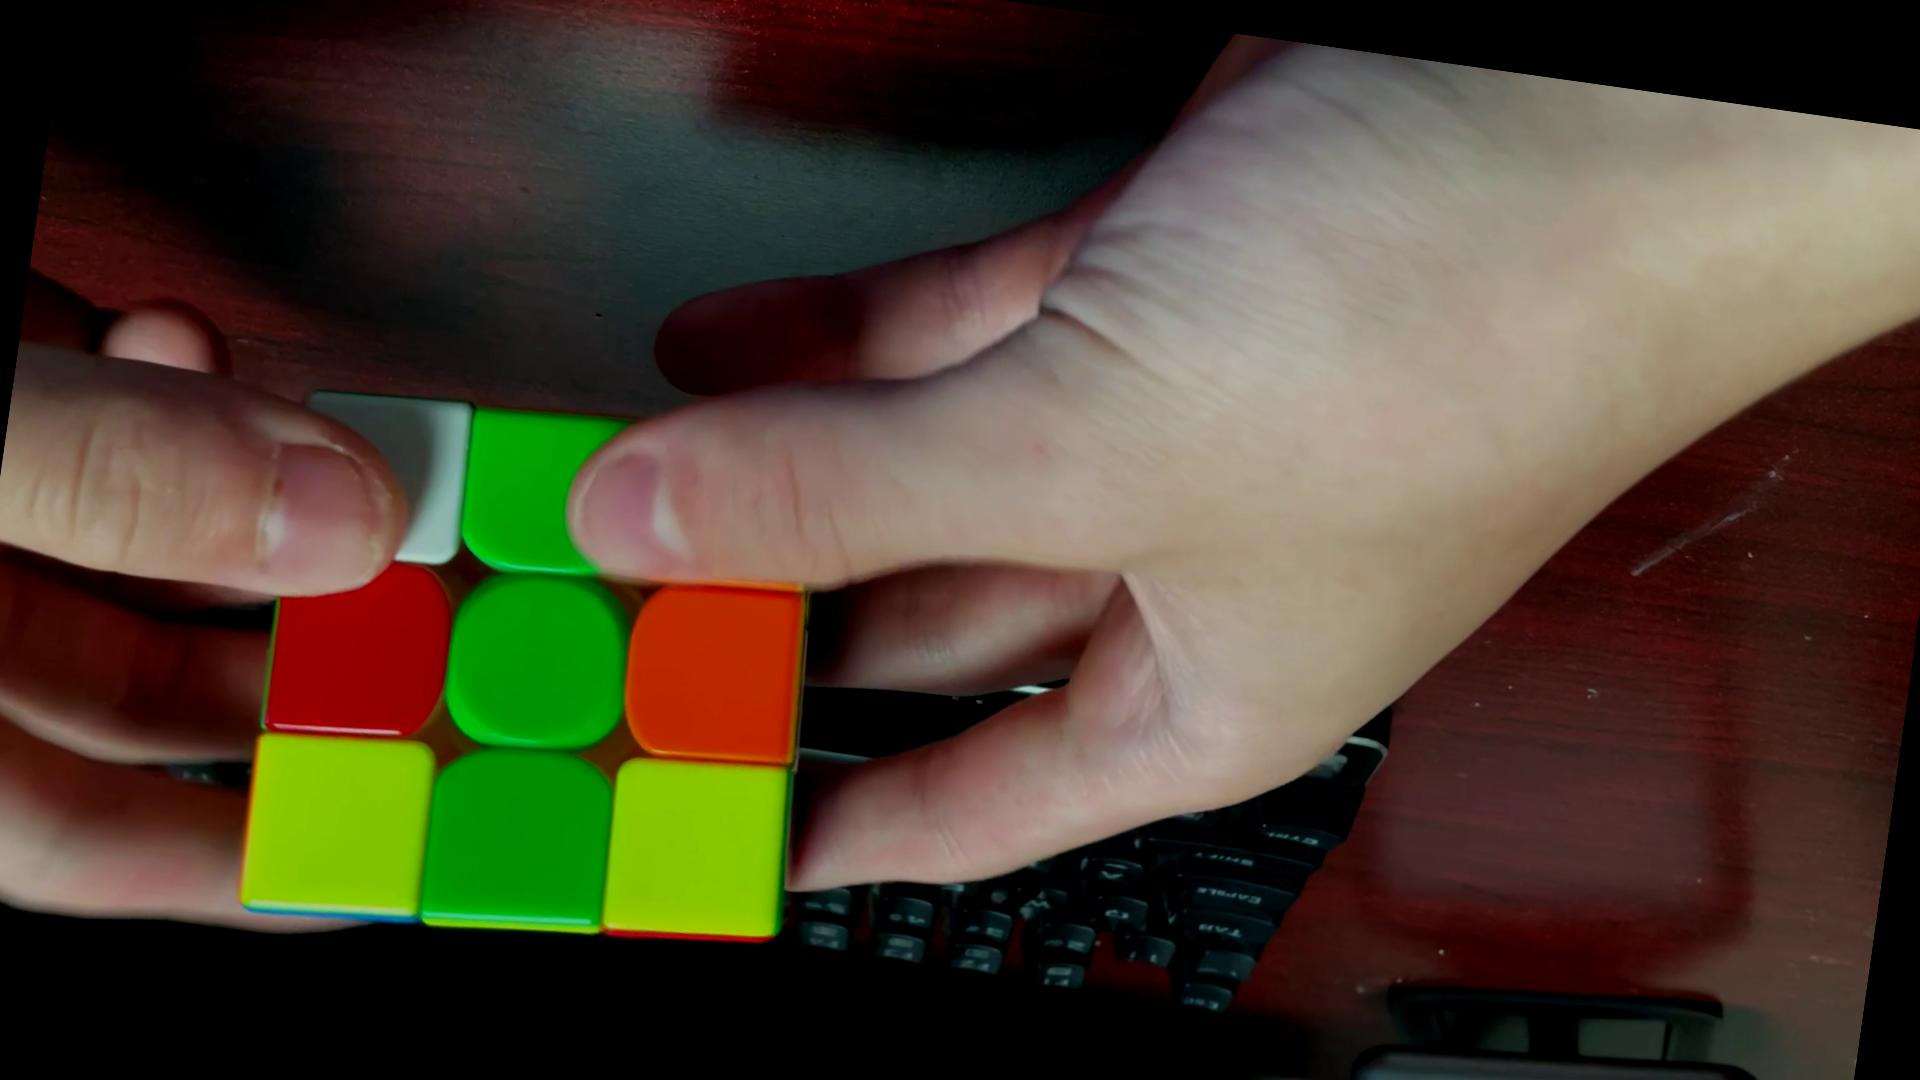Rubiks-Cube: (208, 360, 856, 1000)
